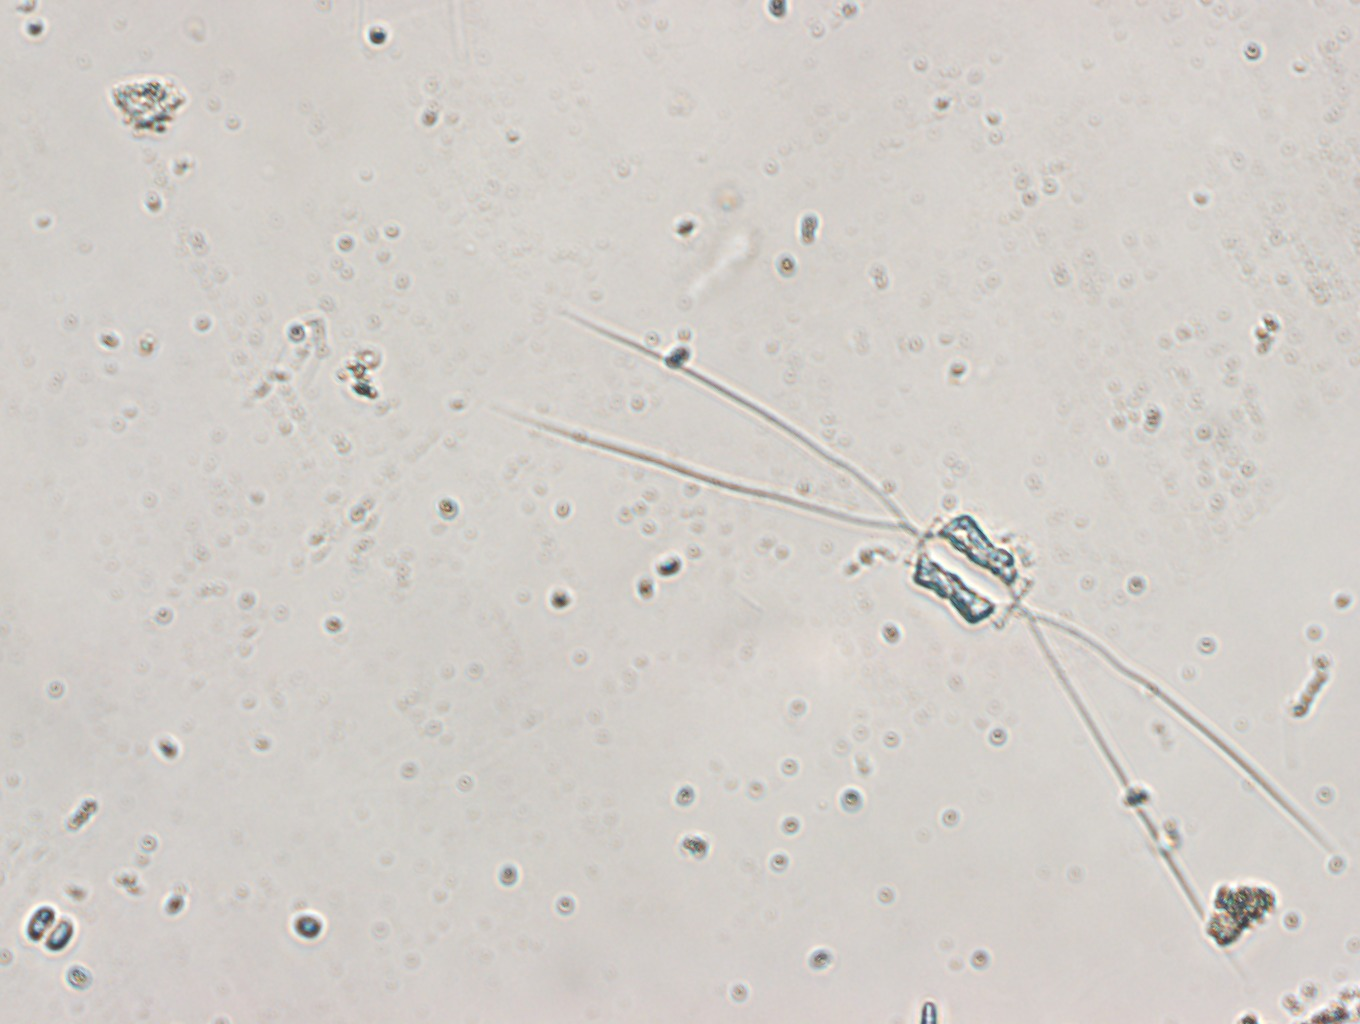chaetoceros: (497, 300, 1335, 967)
